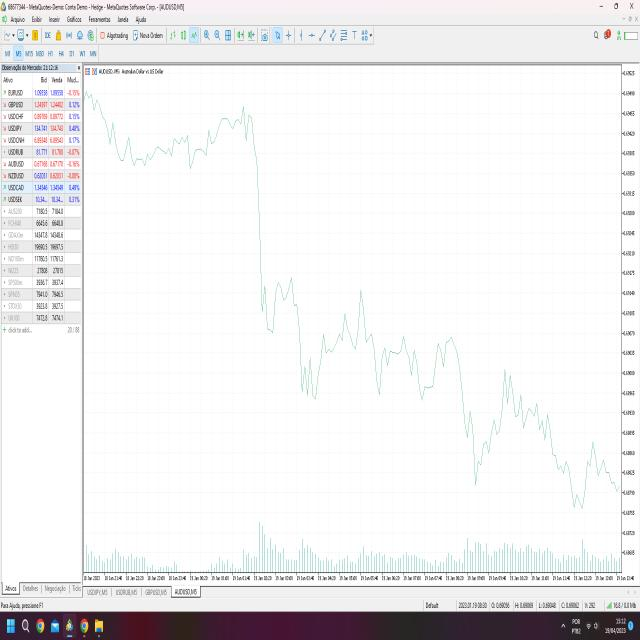bandeira_baixa: (241, 85, 299, 353)
